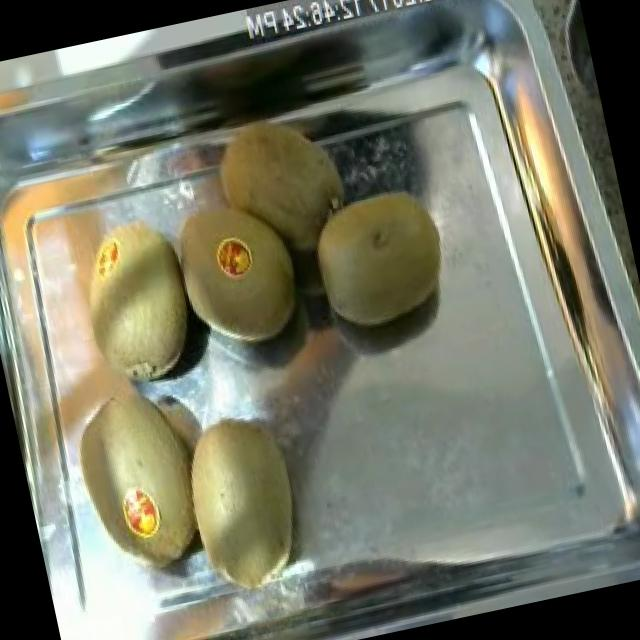Fruit: (0, 178, 208, 428), (168, 390, 330, 614), (200, 92, 373, 273), (292, 166, 464, 348), (172, 204, 323, 368)
